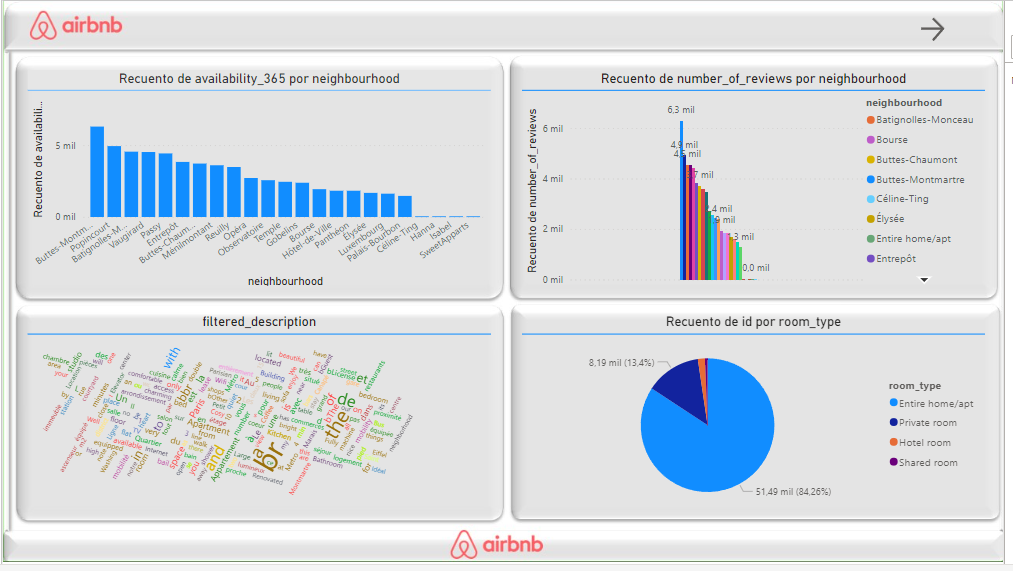

The page's visual inventory and layout, read from the dashboard file:
{"tool":"powerbi","page":{"name":"Airbnb N2 ","canvas":[1280,720],"ordinal":1},"visuals":[{"type":"lineClusteredColumnComboChart","fields":{"Y":["CountNonNull(listings_summary.availability_365)"],"Category":["listings_summary.neighbourhood"]},"box":[32,88,592,280],"z":0},{"type":"WordCloud1447959067750","fields":{"Category":["filtered_description.filtered_description"]},"box":[32,400,592,256],"z":1000},{"type":"clusteredColumnChart","fields":{"Series":["listings_summary.neighbourhood"],"Y":["CountNonNull(listings_summary.number_of_reviews)"]},"box":[664,88,592,280],"z":2000},{"type":"pieChart","fields":{"Category":["listings_summary.room_type"],"Y":["CountNonNull(listings_summary.id)"]},"box":[664,400,592,256],"z":3000},{"type":"actionButton","box":[1168,16,40,40],"z":4001}]}

Visuals, with their boxes in screenshot pixels (x1, y1, x2, y2), scaled from the page's 1280x720 canvas onto the 1013x571 screenshot:
lineClusteredColumnComboChart - CountNonNull(listings_summary.availability_365) x listings_summary.neighbourhood: Rect(25, 70, 494, 292)
WordCloud1447959067750 - filtered_description.filtered_description: Rect(25, 317, 494, 520)
clusteredColumnChart - listings_summary.neighbourhood x CountNonNull(listings_summary.number_of_reviews): Rect(525, 70, 994, 292)
pieChart - listings_summary.room_type x CountNonNull(listings_summary.id): Rect(525, 317, 994, 520)
actionButton: Rect(924, 13, 956, 44)
